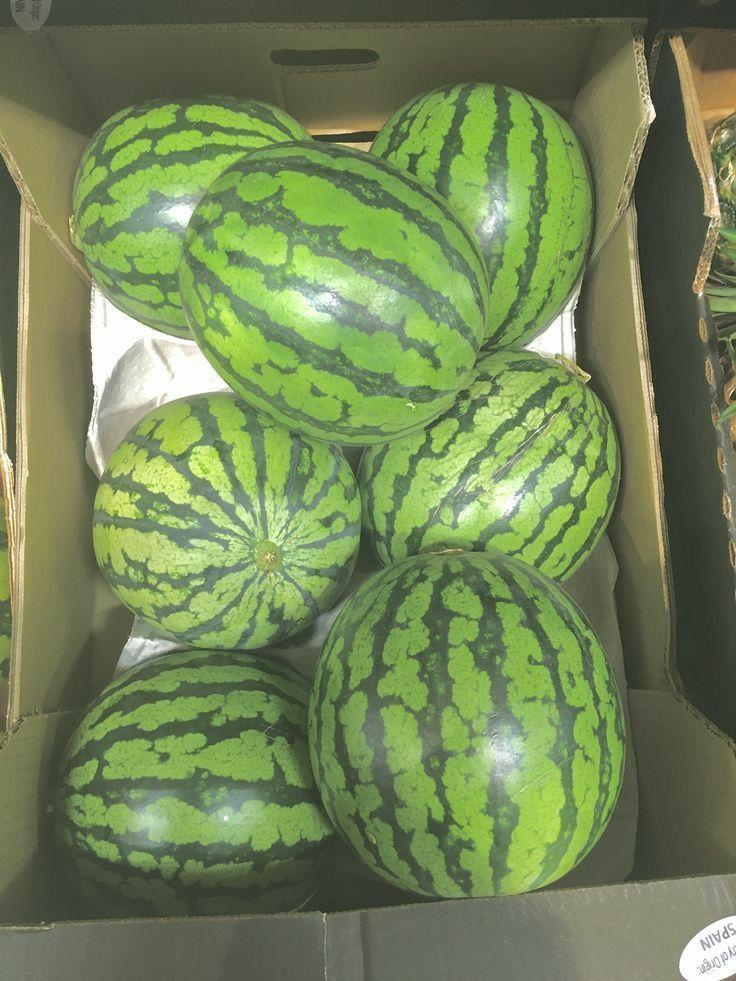watermelon: (306, 547, 627, 899), (177, 137, 491, 446), (49, 646, 335, 908), (90, 390, 362, 650), (356, 347, 622, 584), (367, 78, 595, 353), (67, 93, 313, 341)
